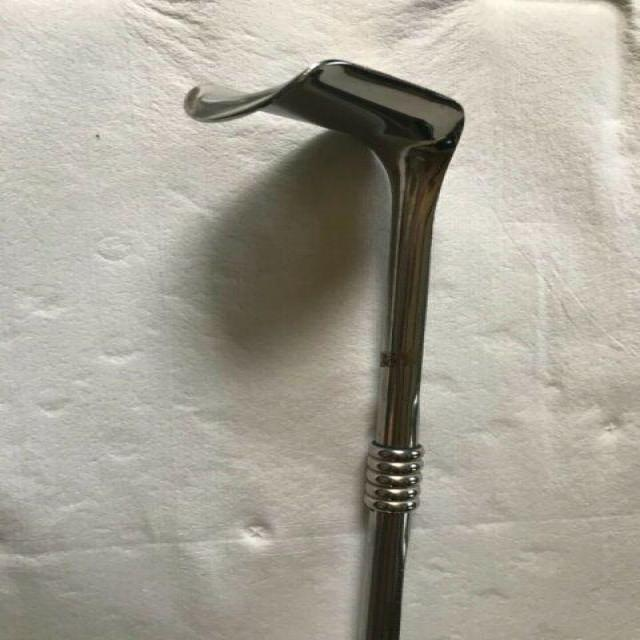Richardson: (177, 53, 471, 640)
